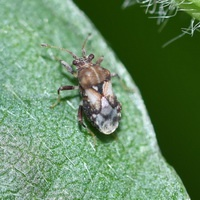insect: (41, 40, 121, 134)
